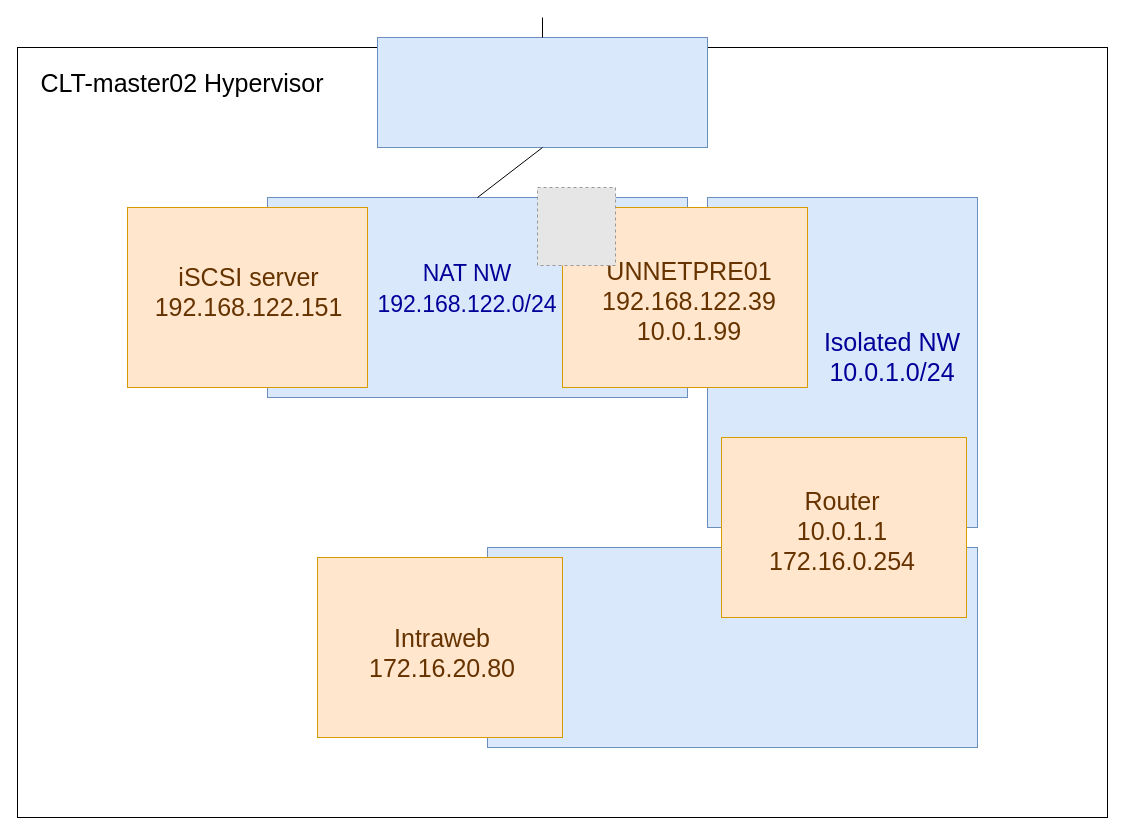
Image size: 1125x835. Some labels were removed from this diagram. Grey dashed boxes stand in for pictures. Each missing label, with the centre of its shape:
"Isolated NW 172.16.20.0/24" belongs at [732,647].
"Real NIC 192.168.1.191/24" belongs at [542,92].
